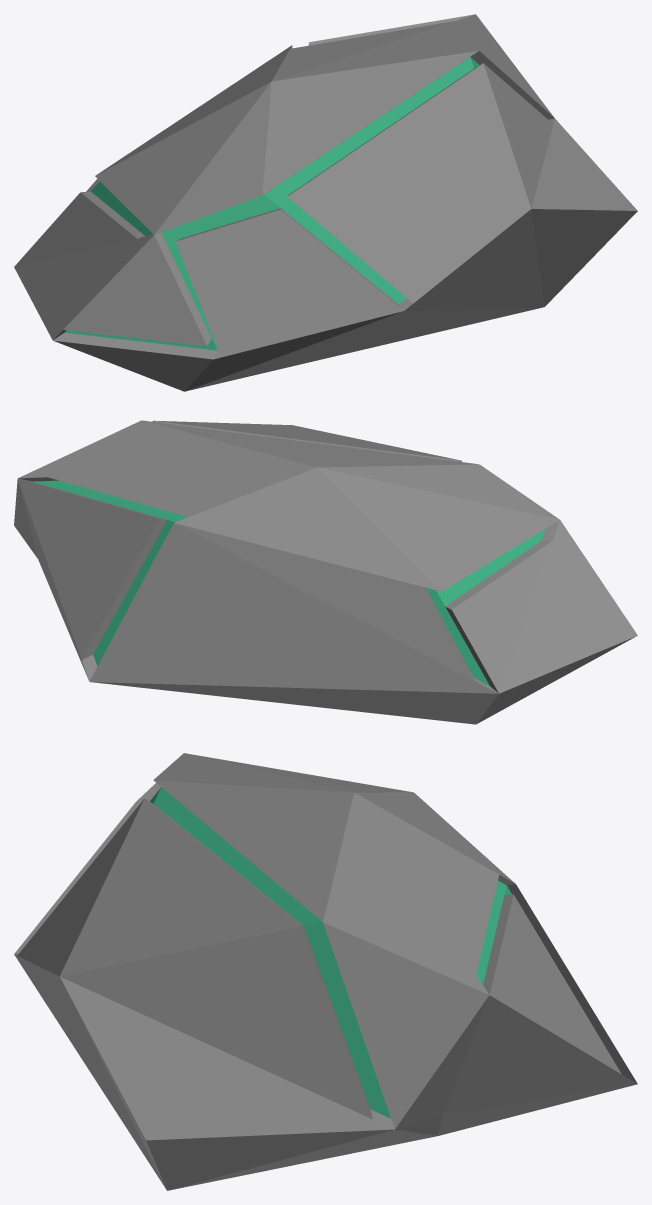
The model's file is Minerio.fbx.
3 renders of one model, top to bottom at view 1: azimuth 30°, elevation 25°; view 2: azimuth 150°, elevation 25°; view 3: azimuth 270°, elevation 25°, orthographic. The views are drawn at different scales.
Visible parts, largest first — view 1: pPlatonic1; view 2: pPlatonic1; view 3: pPlatonic1.
Part boxes in pixels (left/top/right/bottom): pPlatonic1: left=14, top=14, right=637, bottom=391; pPlatonic1: left=14, top=420, right=637, bottom=724; pPlatonic1: left=14, top=753, right=637, bottom=1190.
Size of the model in its own units: 0.7126 by 0.2645 by 0.5316.
